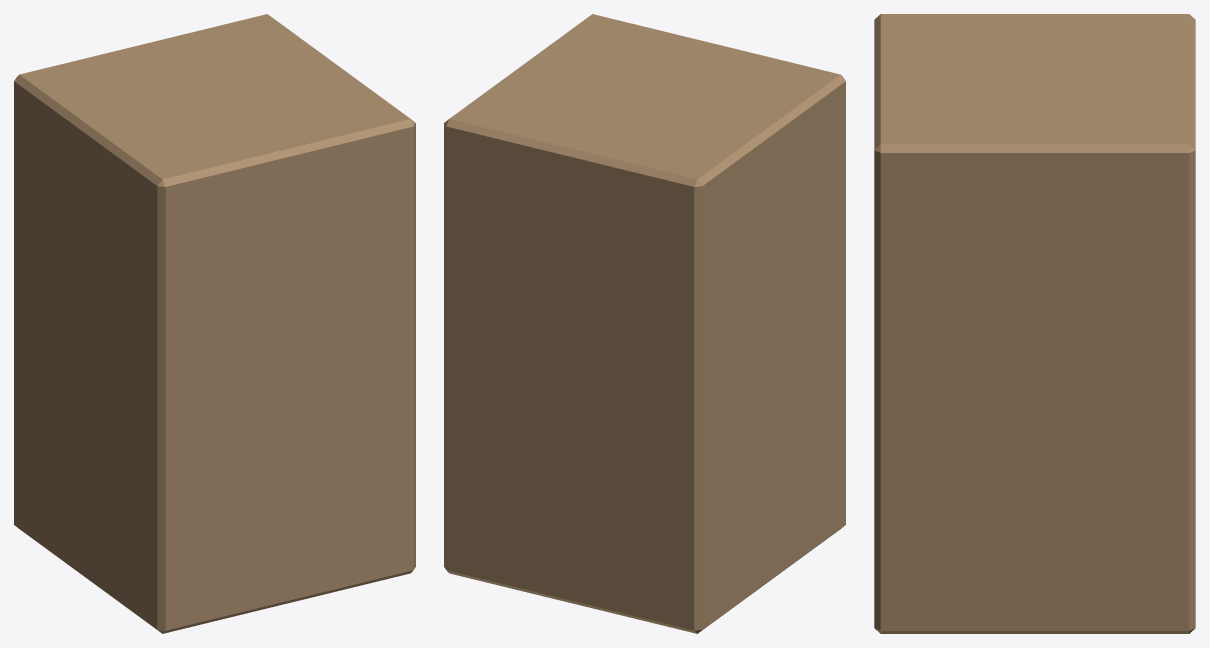
File: body.glb
3 views of the same model, side by side, from view 1: azimuth 30°, elevation 25°; view 2: azimuth 150°, elevation 25°; view 3: azimuth 270°, elevation 25° (orthographic). The views are drawn at different scales.
Parts seen in each view (by area): view 1: body; view 2: body; view 3: body.
Boxes of the visible parts, bbox=[...] form: body: bbox=[14, 14, 415, 633]; body: bbox=[444, 14, 845, 633]; body: bbox=[874, 14, 1195, 633].
Bounding box in the file's own units: 0.5 × 0.84 × 0.5.
